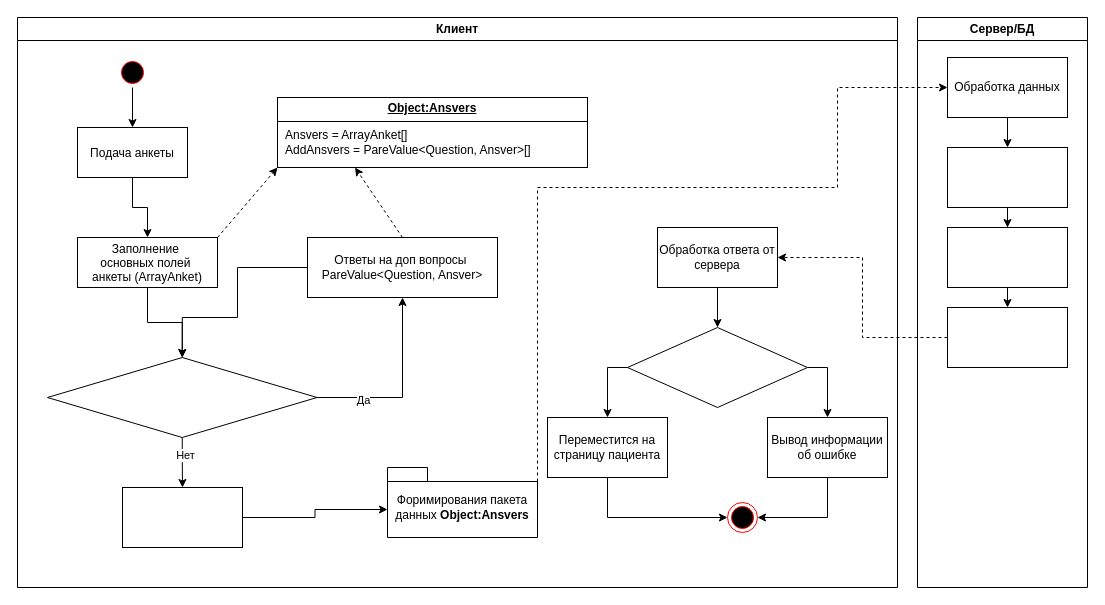
Some shapes in this 1105 by 605 pixel diagram are drawn without their labels. The box of each missing label's shape, as (x1, y1, x2, y2) in pixels:
Есть ли дополнительные вопросы?: (46, 356, 317, 438)
Обработка результата: (122, 486, 242, 548)
Сохранение данных в бд: (946, 226, 1068, 288)
Успешно?: (626, 326, 808, 408)
Формирование запроса: (946, 146, 1068, 208)
Формирование ответа: (946, 306, 1068, 368)
